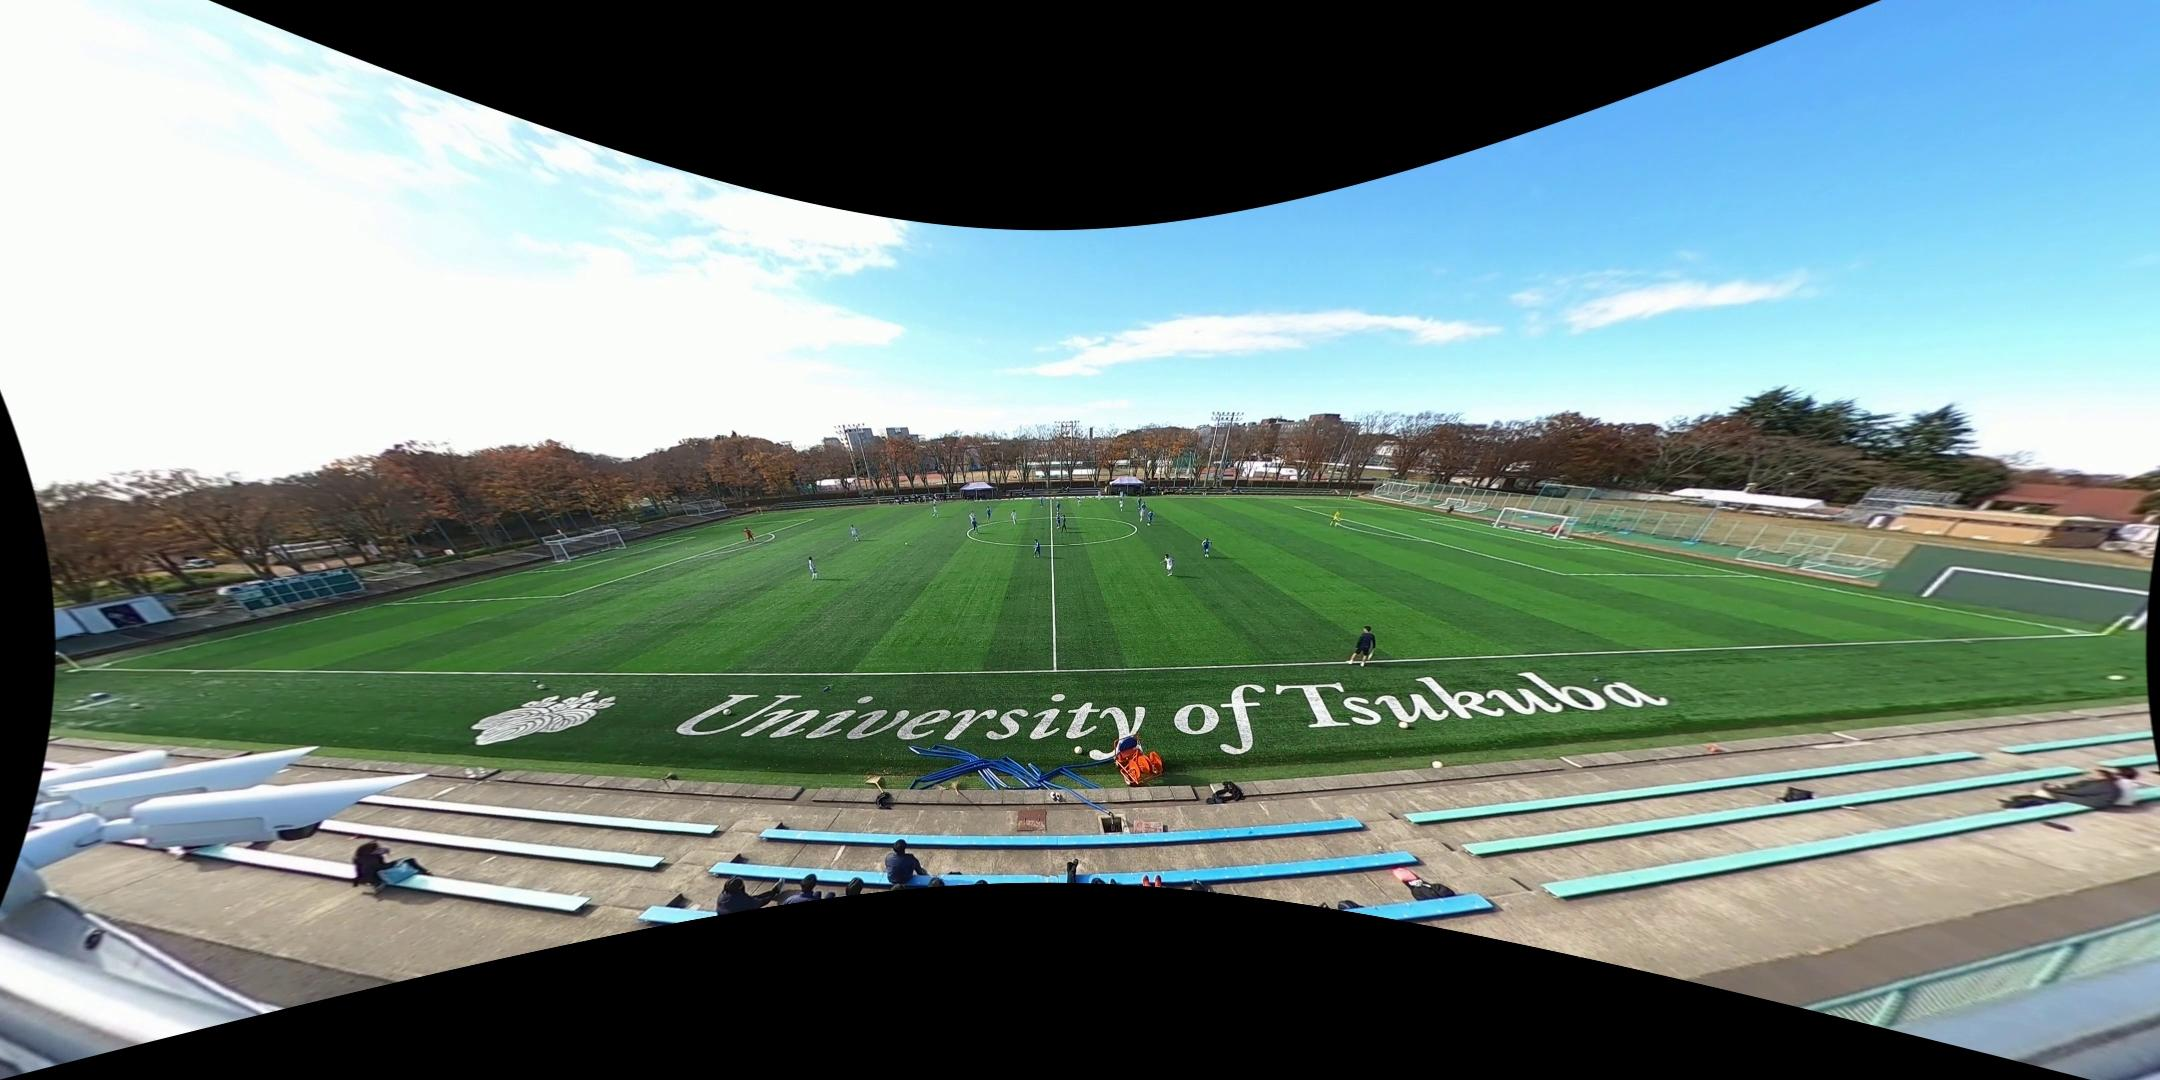person: (1348, 625, 1376, 668), (1161, 554, 1175, 576), (741, 526, 755, 544), (808, 556, 818, 581), (1329, 511, 1342, 528), (1202, 537, 1213, 557), (849, 524, 860, 543), (1146, 510, 1155, 527), (1060, 515, 1069, 532), (1033, 538, 1040, 558), (971, 517, 979, 534), (969, 511, 977, 527), (931, 504, 940, 518), (1010, 510, 1018, 524), (1140, 501, 1147, 517), (1055, 513, 1062, 529), (985, 507, 991, 523), (1139, 509, 1145, 523), (1056, 502, 1062, 514), (1119, 499, 1124, 512), (1137, 496, 1142, 509), (1076, 497, 1082, 507), (1097, 491, 1102, 501), (1040, 497, 1044, 507)
sports ball: (904, 542, 908, 546)
